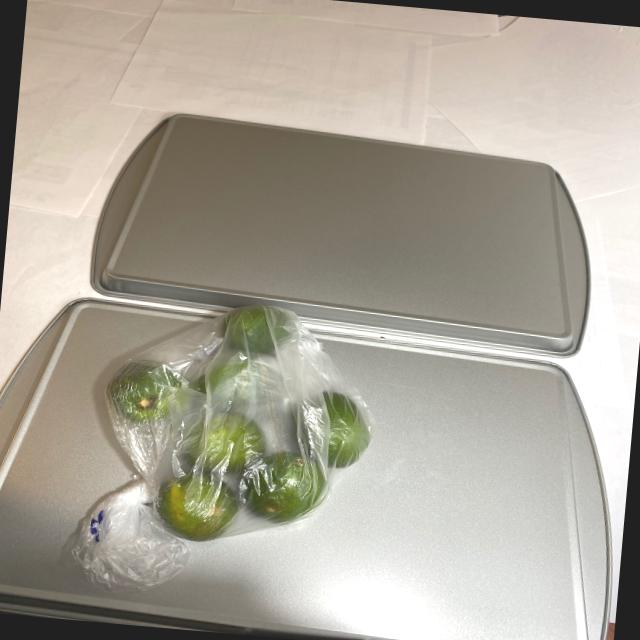lemon: (84, 289, 379, 579)
